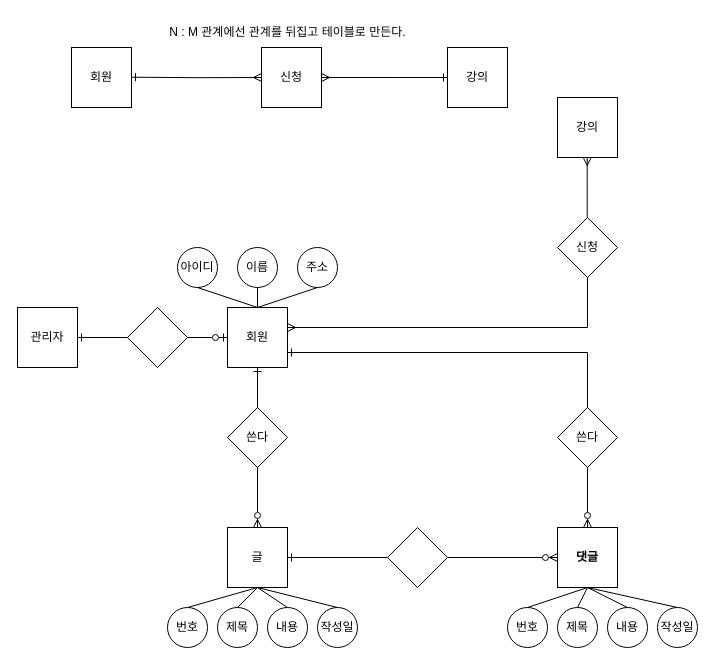
This 715x665 diagram has some shape labels left out. Here are the shapes that lost their labels. From the top down, the centre of each, then its label:
At point (157, 337): "승급".
At point (417, 557): "포함".
